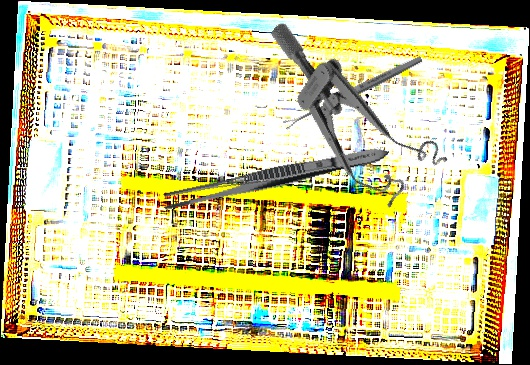Dressing Forceps: (159, 140, 391, 215)
Speculum: (226, 19, 461, 221)
Surgical Spoon: (282, 54, 424, 130)
